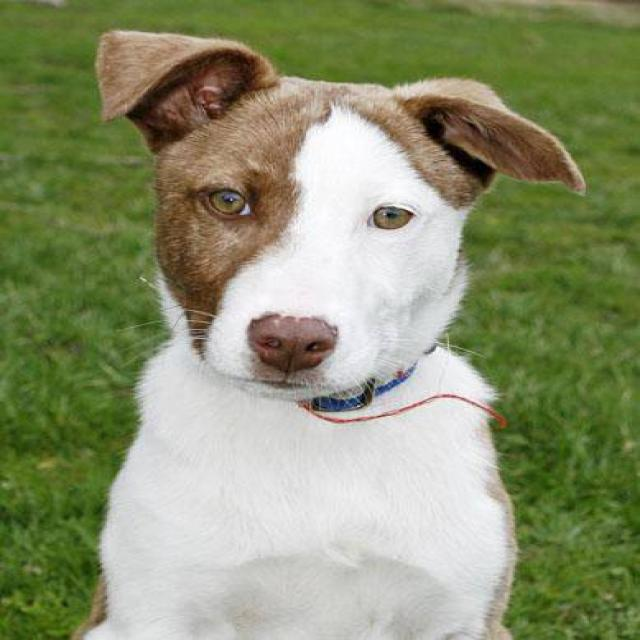dog: (58, 27, 588, 639)
